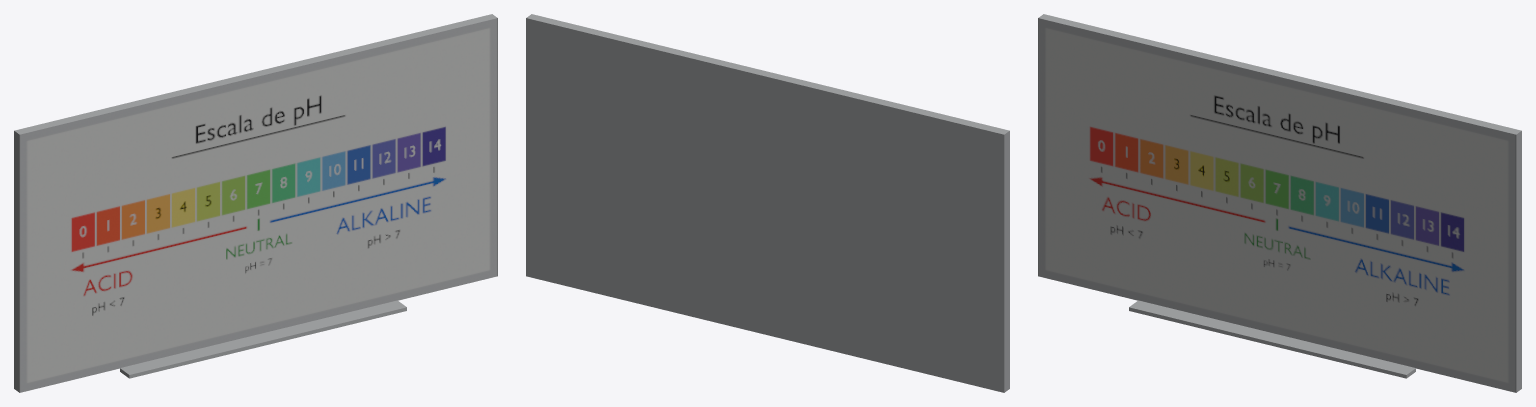
Rendered from Pizarra_pH_LowPoly.fbx.
The picture shows the model from 3 angles, left to right: view 1: azimuth 30°, elevation 25°; view 2: azimuth 150°, elevation 25°; view 3: azimuth 330°, elevation 25°; orthographic projection.
Visible parts, largest first — view 1: Pizarra_pH_LowPoly; view 2: Pizarra_pH_LowPoly; view 3: Pizarra_pH_LowPoly.
Part boxes in pixels (box(x1,y1,x2,y2)): Pizarra_pH_LowPoly: box(14, 14, 497, 392); Pizarra_pH_LowPoly: box(526, 14, 1009, 392); Pizarra_pH_LowPoly: box(1038, 14, 1521, 392).
Size of the model in its own units: 2.48 by 1.3 by 0.135.
1 material, 1 textured.
